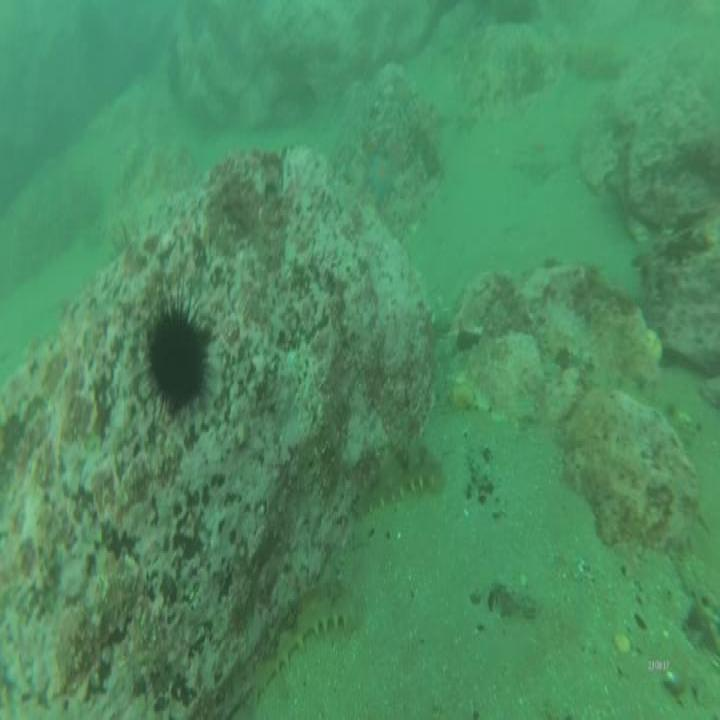echinus: (148, 300, 208, 418)
holothurian: (248, 579, 364, 697), (350, 444, 447, 518)
starfish: (366, 153, 398, 204)
